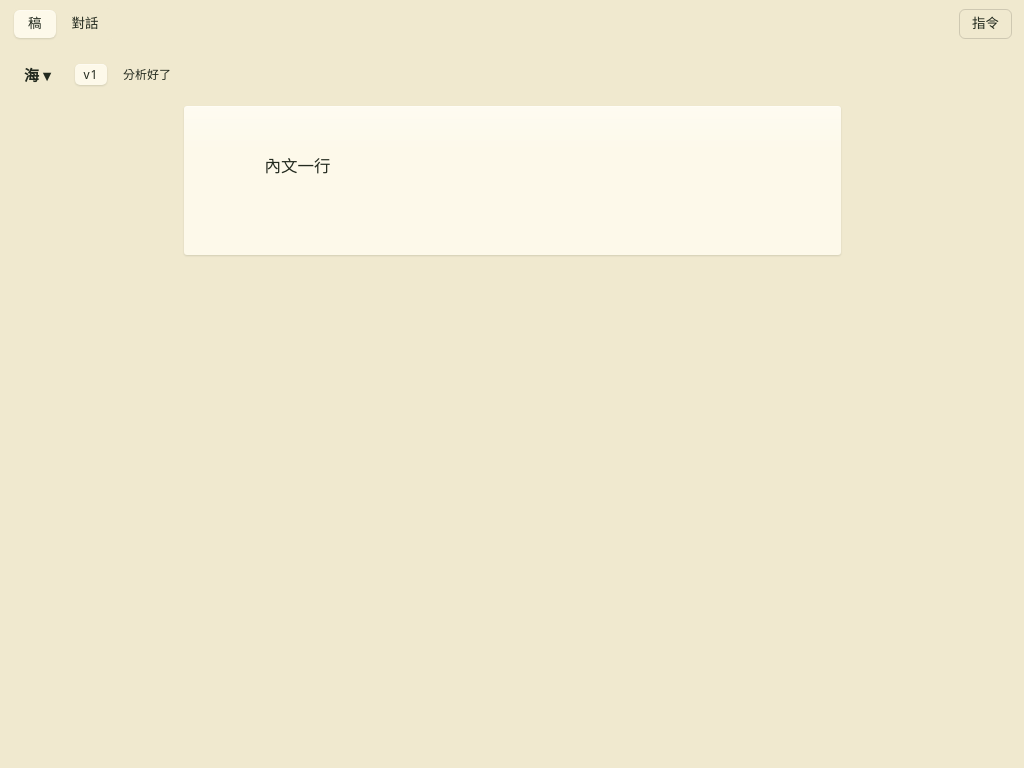
鍵盤 › 找不到時說沒有符合的
Press k
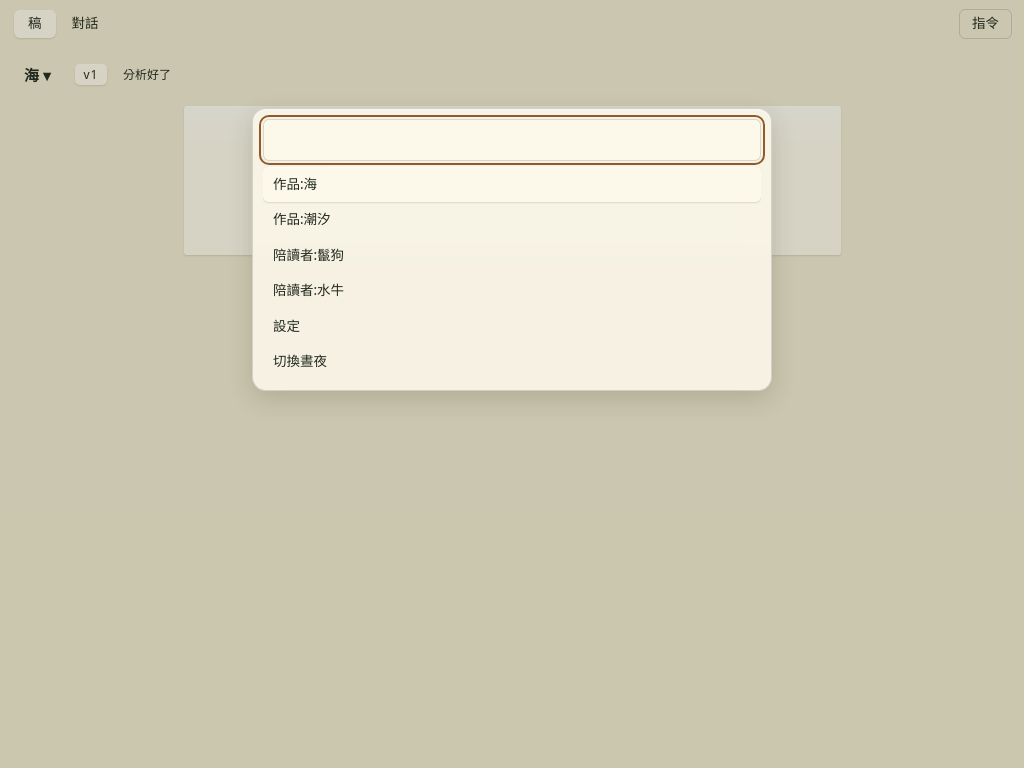
Type "zzzz" into the dropdown.
click(512, 140); type("zzzz")  # box [263,118,761,160]
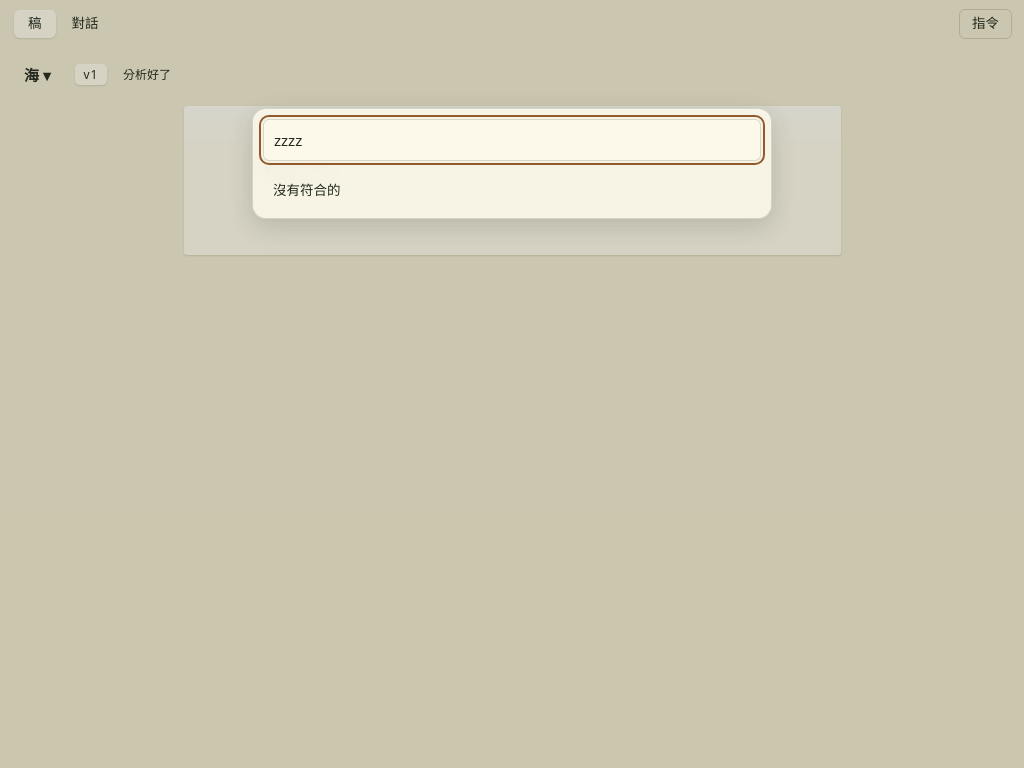
Now the text "沒有符合的" is shown, box [273,180,340,198]
Now no options are shown
